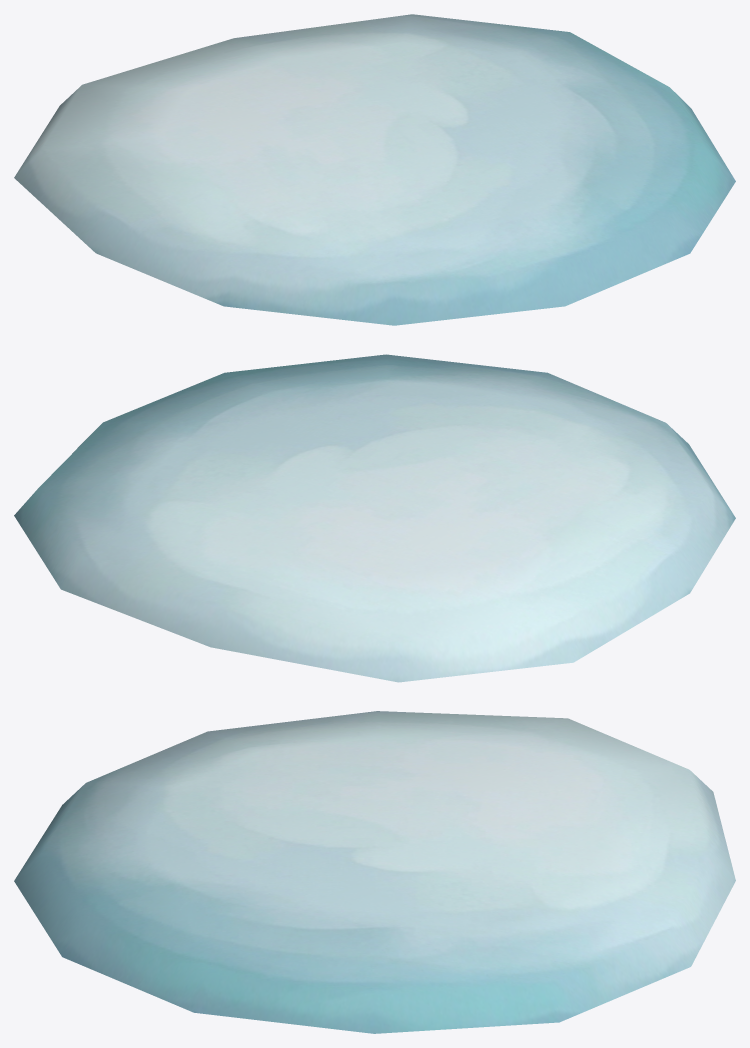
The model's file is Snow01.glb.
The picture shows the model from 3 angles, top to bottom: view 1: azimuth 30°, elevation 25°; view 2: azimuth 150°, elevation 25°; view 3: azimuth 270°, elevation 25°; orthographic projection. The views are drawn at different scales.
Visible parts, largest first — view 1: Snow01; view 2: Snow01; view 3: Snow01.
Boxes of the visible parts, <box> form: Snow01: <box>14,14,735,325</box>; Snow01: <box>14,354,735,682</box>; Snow01: <box>14,711,735,1033</box>.
Bounding box in the file's own units: 2.47 × 0.2064 × 2.46.
Materials: 1 (1 with a texture image).
